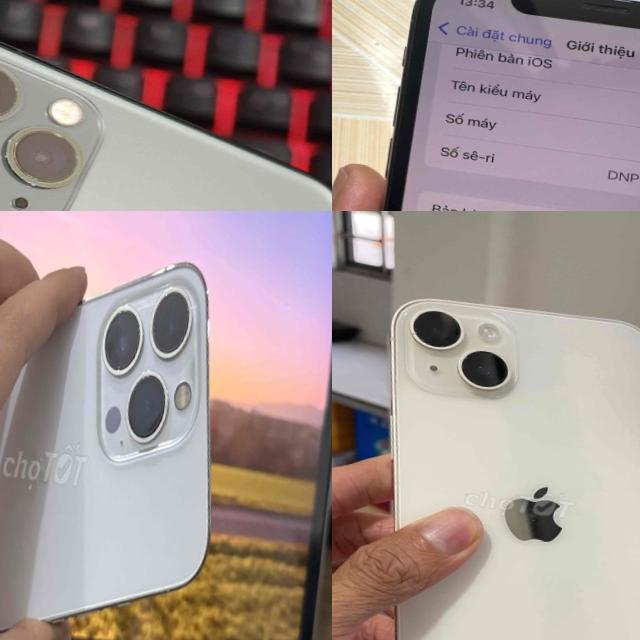gen_11: (0, 3, 332, 211)
gen_12_13: (0, 231, 251, 640)
gen_14: (332, 283, 640, 640)
gen_x_xs: (332, 0, 640, 211)
